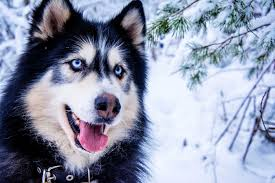Bulldog: (6, 4, 159, 178)
